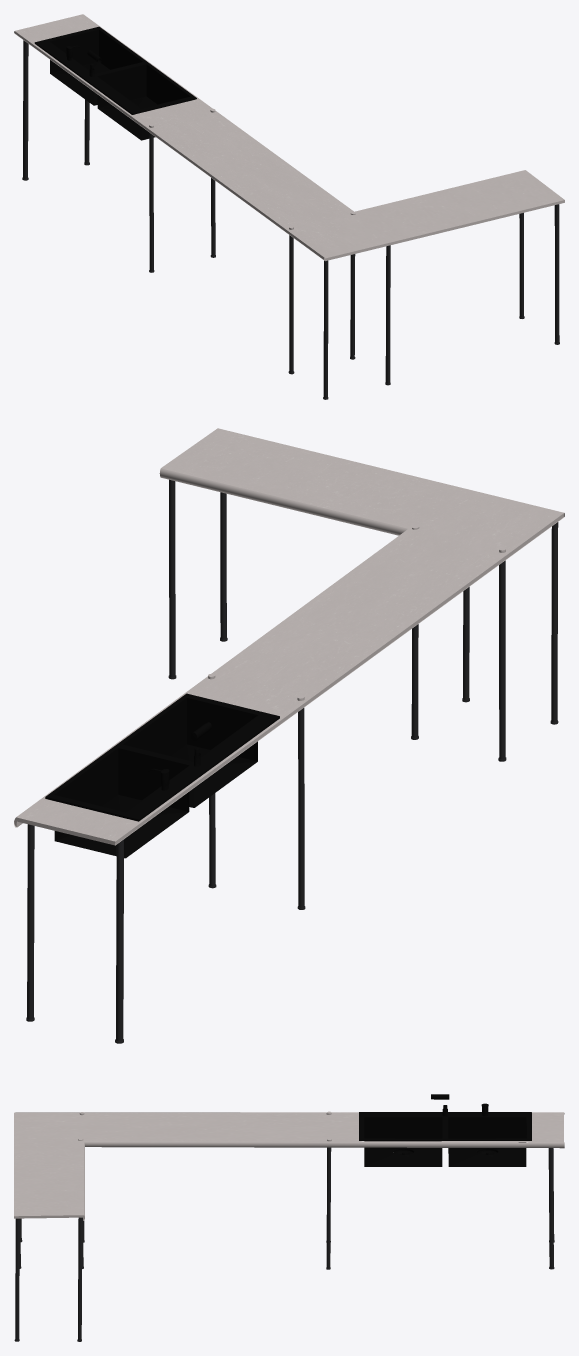
Rendered from BarraFreg.obj.
3 renders of one model, top to bottom at view 1: azimuth 30°, elevation 25°; view 2: azimuth 150°, elevation 25°; view 3: azimuth 270°, elevation 25°, orthographic. The views are drawn at different scales.
Visible parts, largest first — view 1: polySurface24 polySurface20 BarraCafes:DGeom_189; view 2: polySurface24 polySurface20 BarraCafes:DGeom_189; view 3: polySurface24 polySurface20 BarraCafes:DGeom_189.
Boxes of the visible parts, box(x1,y1,x2,y2) form: polySurface24 polySurface20 BarraCafes:DGeom_189: box(14, 14, 564, 399); polySurface24 polySurface20 BarraCafes:DGeom_189: box(14, 428, 564, 1043); polySurface24 polySurface20 BarraCafes:DGeom_189: box(14, 1103, 564, 1341).
Bounding box in the file's own units: 2.89 × 2.25 × 6.5.
Materials: 4 (3 with a texture image).
